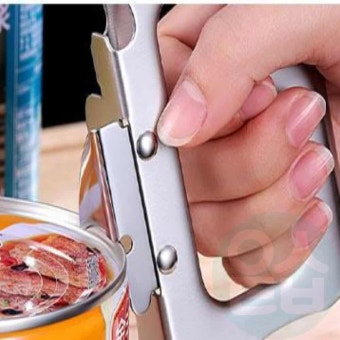paper: (0, 187, 138, 340)
